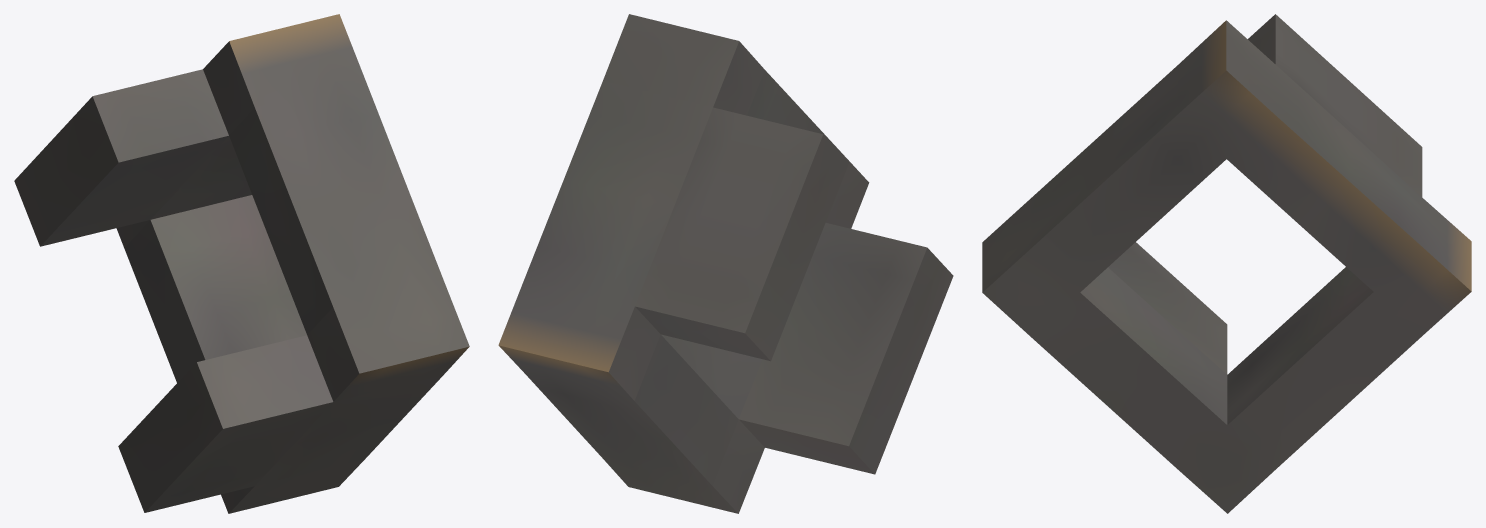
Rendered from handle.obj.
The picture shows the model from 3 angles, left to right: view 1: azimuth 30°, elevation 25°; view 2: azimuth 150°, elevation 25°; view 3: azimuth 270°, elevation 25°; orthographic projection. The views are drawn at different scales.
Visible parts, largest first — view 1: handle; view 2: handle; view 3: handle.
Part boxes in pixels (bbox=[...]): handle: bbox=[14, 14, 469, 513]; handle: bbox=[498, 14, 953, 513]; handle: bbox=[982, 14, 1471, 513].
Size of the model in its own units: 0.2 by 0.4098 by 0.4098.
